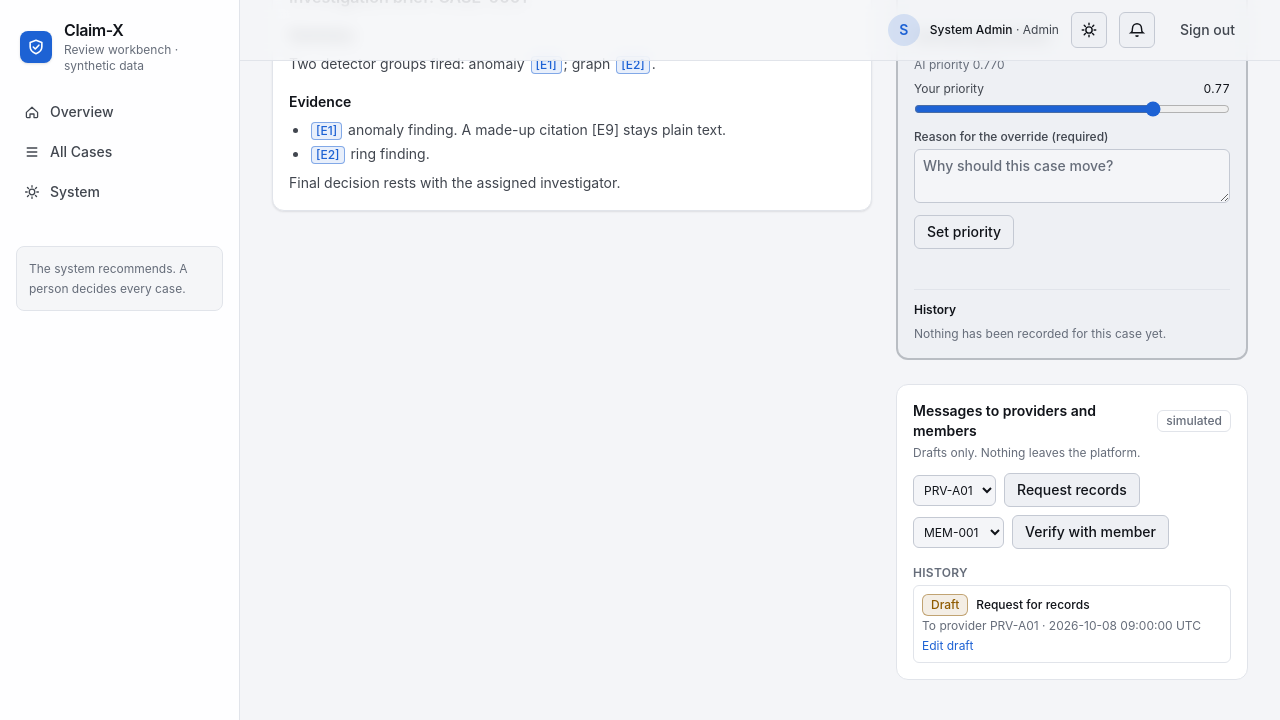
Test: messages to providers and members › approves with the approver and reason, then shows it as sent (simulated)
(page scrolled)
Click the button "Edit draft".
click(948, 646)  # box x1=922 y1=638 x2=973 y2=654
(page scrolled)
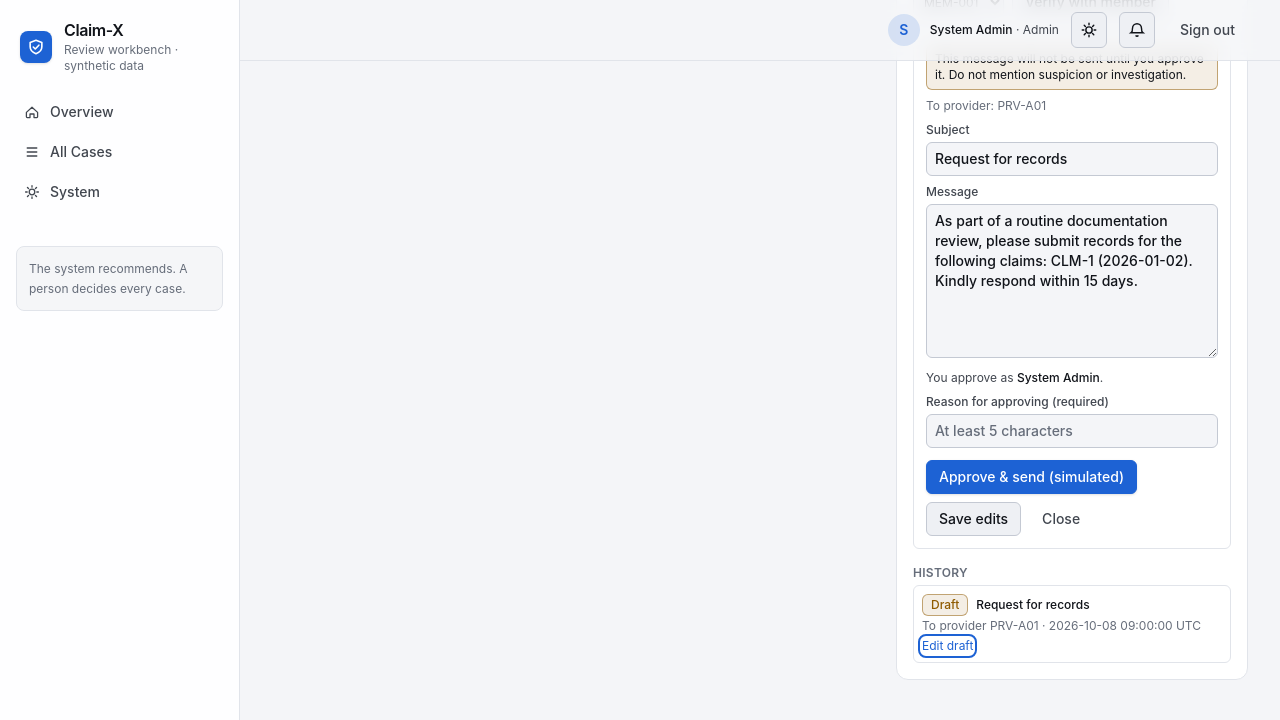
Type "Wording checked" into the field labelled "Reason for approving (required)".
click(1072, 431); type("Wording checked")  # box x1=926 y1=414 x2=1218 y2=448
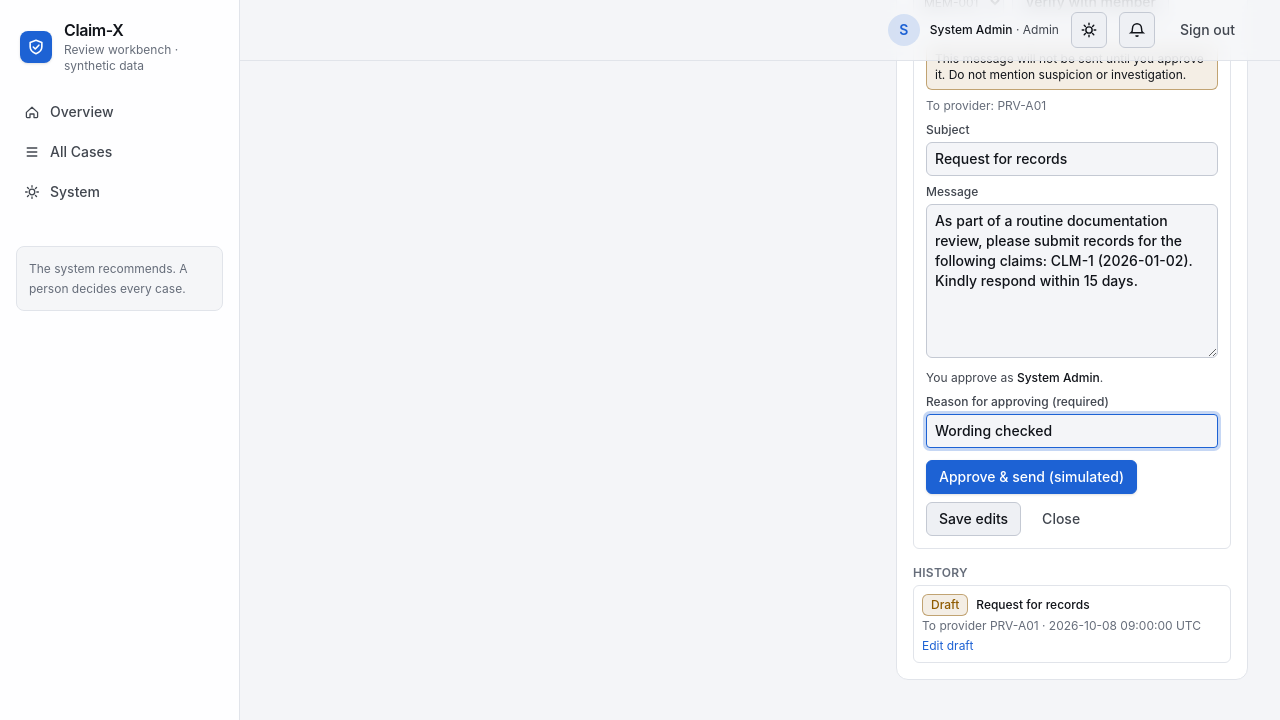
Click the button "Approve & send (simulated)".
click(1032, 477)  # box x1=926 y1=460 x2=1137 y2=494
(page scrolled)
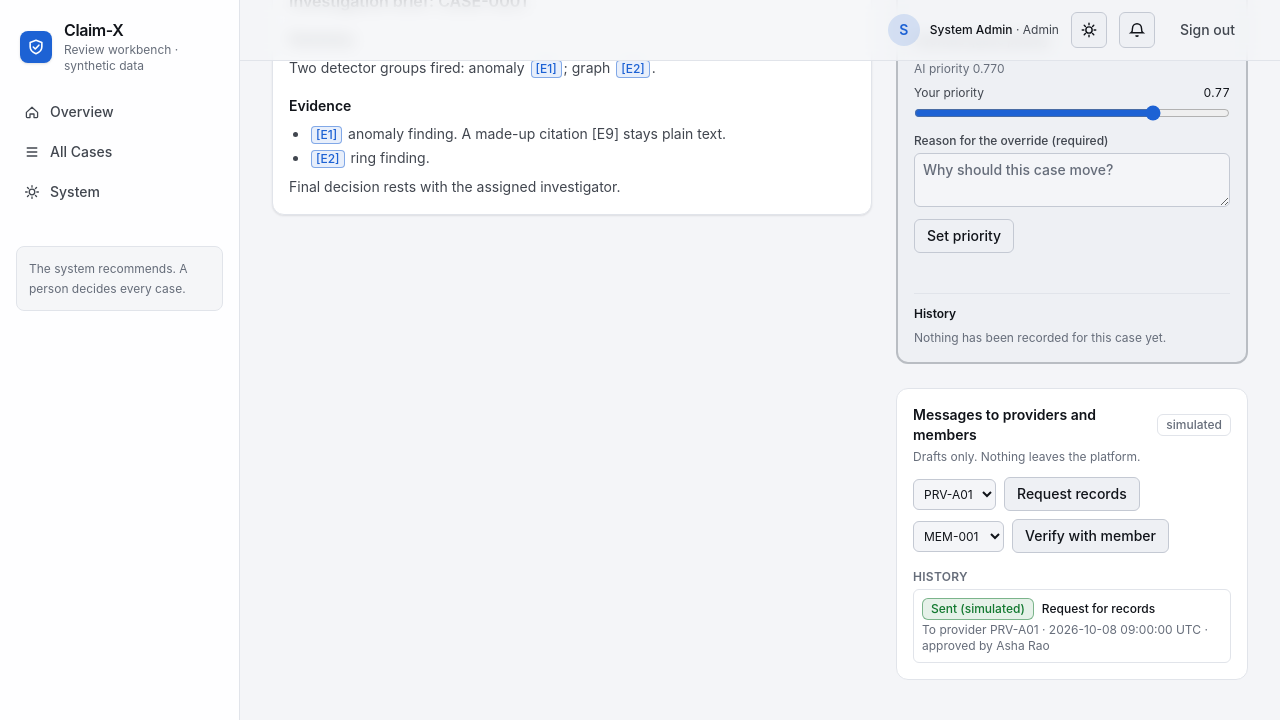
Expected: the text "Sent (simulated)" is shown, x1=922 y1=598 x2=1034 y2=620
Expected: the element with test id "outbound-draft" is gone
